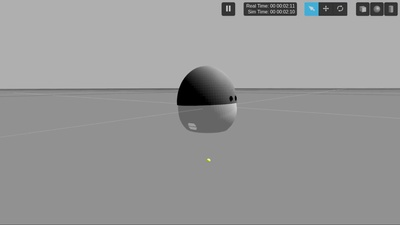mira_robot: (176, 65, 238, 134)
